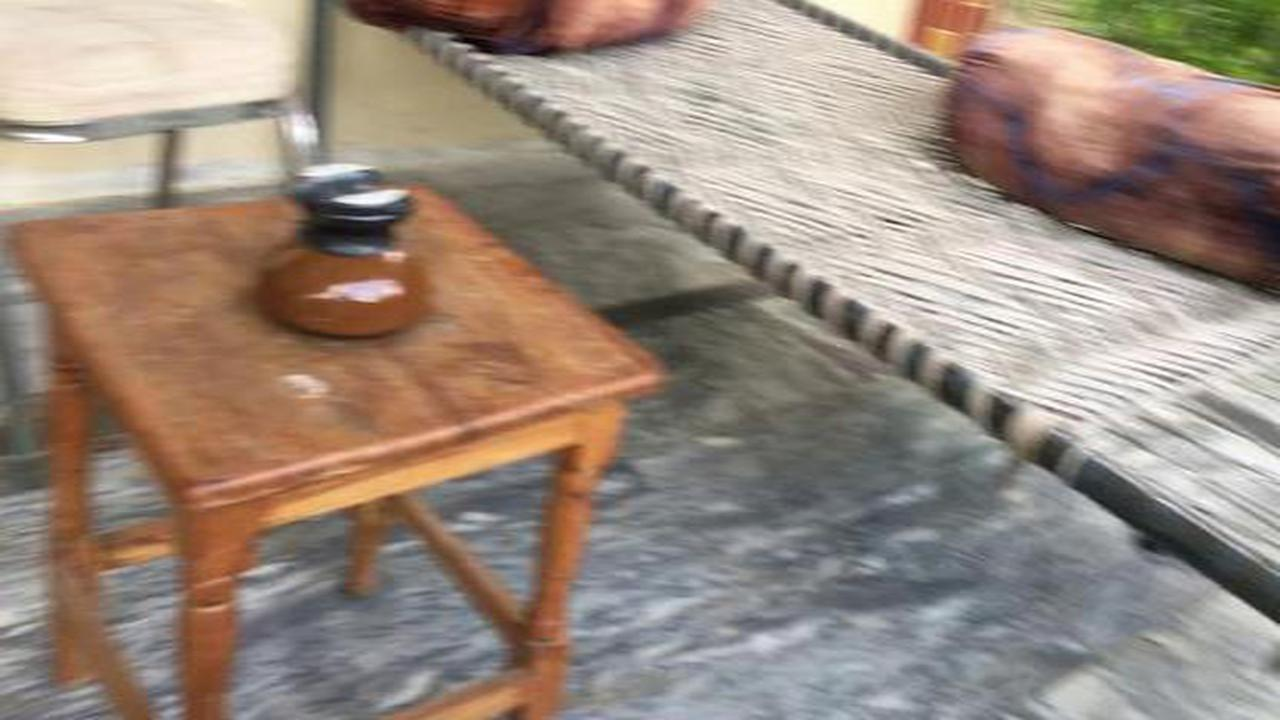insulator_pin: (231, 142, 456, 347)
